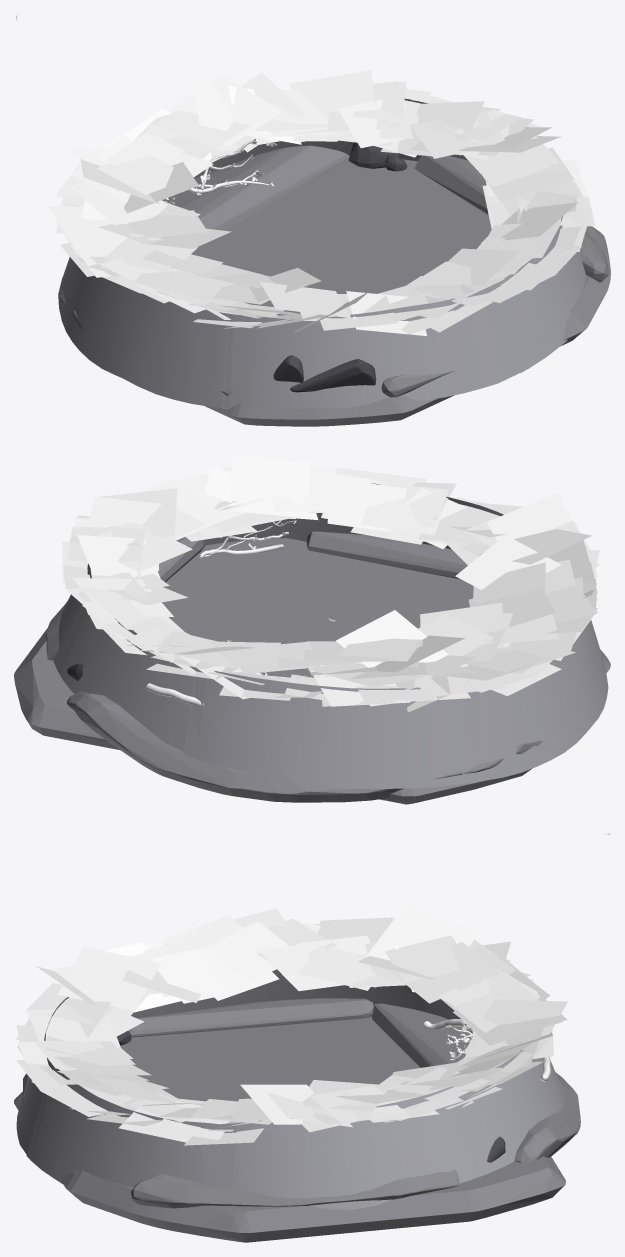
The model's file is VR exterior.fbx.
The picture shows the model from 3 angles, top to bottom: view 1: azimuth 30°, elevation 25°; view 2: azimuth 150°, elevation 25°; view 3: azimuth 270°, elevation 25°; orthographic projection. The views are drawn at different scales.
Parts seen in each view (by area): view 1: node_ad3ef91c_708e_4fe1_94b0_9db4a42a43be_mesh0, node_11223ad4_e958_4ceb_90d7_9cd24b69d243_mesh0, node_c2cec7ba_70a1_45cd_bd07_fa1f3f73020f_mesh0, node_19516292_3733_40d2_8b71_5f8a79aa3465_mesh0; view 2: node_ad3ef91c_708e_4fe1_94b0_9db4a42a43be_mesh0, node_c2cec7ba_70a1_45cd_bd07_fa1f3f73020f_mesh0, node_11223ad4_e958_4ceb_90d7_9cd24b69d243_mesh0, node_19516292_3733_40d2_8b71_5f8a79aa3465_mesh0; view 3: node_ad3ef91c_708e_4fe1_94b0_9db4a42a43be_mesh0, node_11223ad4_e958_4ceb_90d7_9cd24b69d243_mesh0, node_c2cec7ba_70a1_45cd_bd07_fa1f3f73020f_mesh0, node_19516292_3733_40d2_8b71_5f8a79aa3465_mesh0.
Boxes of the visible parts, x1,y1,x2,y2 form: node_ad3ef91c_708e_4fe1_94b0_9db4a42a43be_mesh0: (47,70,595,335); node_11223ad4_e958_4ceb_90d7_9cd24b69d243_mesh0: (59,142,610,426); node_c2cec7ba_70a1_45cd_bd07_fa1f3f73020f_mesh0: (58,98,586,409); node_19516292_3733_40d2_8b71_5f8a79aa3465_mesh0: (163,140,269,203); node_ad3ef91c_708e_4fe1_94b0_9db4a42a43be_mesh0: (62,455,599,712); node_c2cec7ba_70a1_45cd_bd07_fa1f3f73020f_mesh0: (53,483,608,788); node_11223ad4_e958_4ceb_90d7_9cd24b69d243_mesh0: (14,531,610,804); node_19516292_3733_40d2_8b71_5f8a79aa3465_mesh0: (146,520,295,705); node_ad3ef91c_708e_4fe1_94b0_9db4a42a43be_mesh0: (16,903,567,1145); node_11223ad4_e958_4ceb_90d7_9cd24b69d243_mesh0: (14,998,580,1242); node_c2cec7ba_70a1_45cd_bd07_fa1f3f73020f_mesh0: (16,969,564,1209); node_19516292_3733_40d2_8b71_5f8a79aa3465_mesh0: (114,1019,550,1132).
Bounding box in the file's own units: 161 × 72.82 × 165.
Materials: 7 (2 with a texture image).
